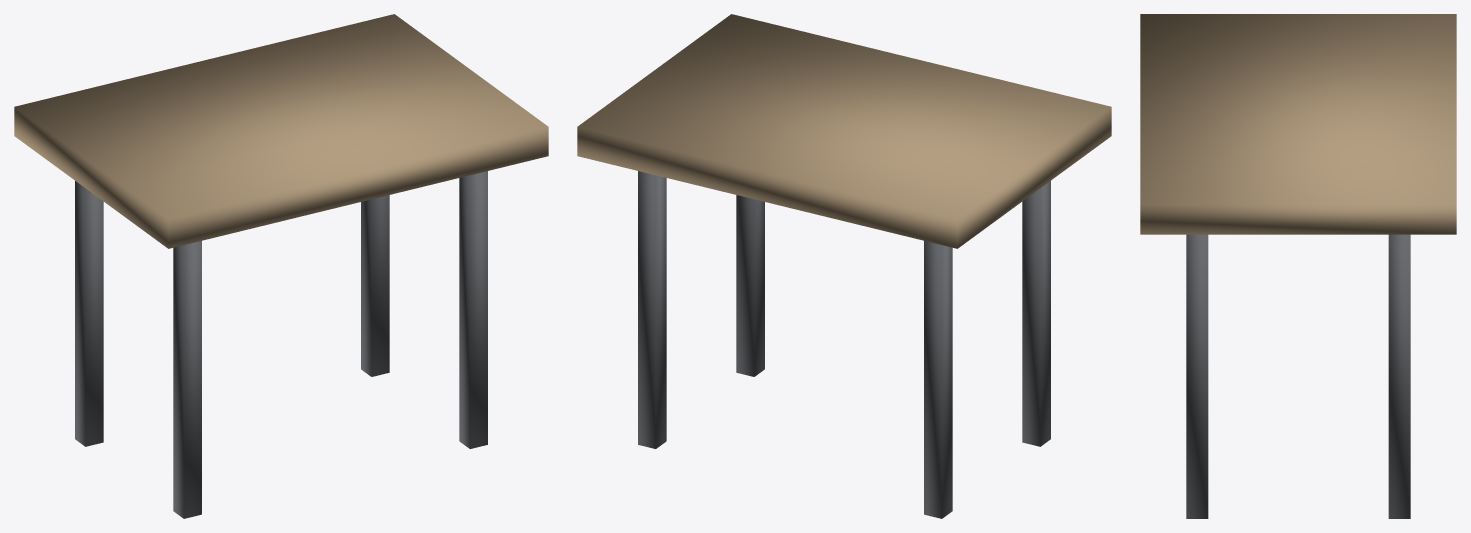
Rendered from diner_four_top__compact.glb.
The picture shows the model from 3 angles, left to right: view 1: azimuth 30°, elevation 25°; view 2: azimuth 150°, elevation 25°; view 3: azimuth 270°, elevation 25°; orthographic projection. The views are drawn at different scales.
Visible parts, largest first — view 1: world; view 2: world; view 3: world.
Boxes of the visible parts, x1,y1,x2,y2 form: world: (14,14,548,518); world: (577,14,1111,518); world: (1140,14,1456,518).
Size of the model in its own units: 0.882 by 0.7207 by 0.6192.
